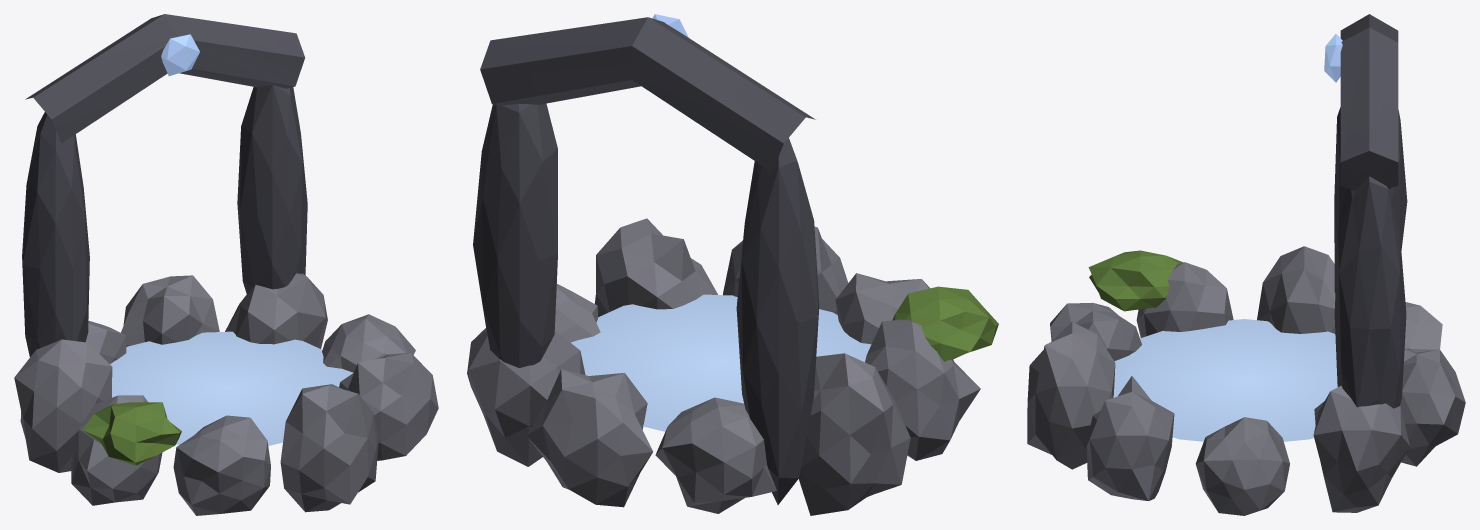
The model's file is dreamb_moonwell_blue.glb.
The picture shows the model from 3 angles, left to right: view 1: azimuth 30°, elevation 25°; view 2: azimuth 150°, elevation 25°; view 3: azimuth 270°, elevation 25°; orthographic projection. The views are drawn at different scales.
Visible parts, largest first — view 1: dreamb_moonwell_blue_solid, dreamb_moonwell_blue_glow, dreamb_moonwell_blue_leaf; view 2: dreamb_moonwell_blue_solid, dreamb_moonwell_blue_glow, dreamb_moonwell_blue_leaf; view 3: dreamb_moonwell_blue_solid, dreamb_moonwell_blue_glow, dreamb_moonwell_blue_leaf.
Part boxes in pixels (box(x1,y1,x2,y2)): dreamb_moonwell_blue_solid: box(14, 14, 438, 515); dreamb_moonwell_blue_glow: box(110, 34, 353, 445); dreamb_moonwell_blue_leaf: box(82, 402, 181, 465); dreamb_moonwell_blue_solid: box(467, 17, 980, 515); dreamb_moonwell_blue_glow: box(571, 14, 871, 431); dreamb_moonwell_blue_leaf: box(892, 286, 998, 361); dreamb_moonwell_blue_solid: box(1027, 14, 1465, 515); dreamb_moonwell_blue_glow: box(1113, 33, 1342, 441); dreamb_moonwell_blue_leaf: box(1088, 250, 1182, 311).
Size of the model in its own units: 1.09 by 1.14 by 1.05.
